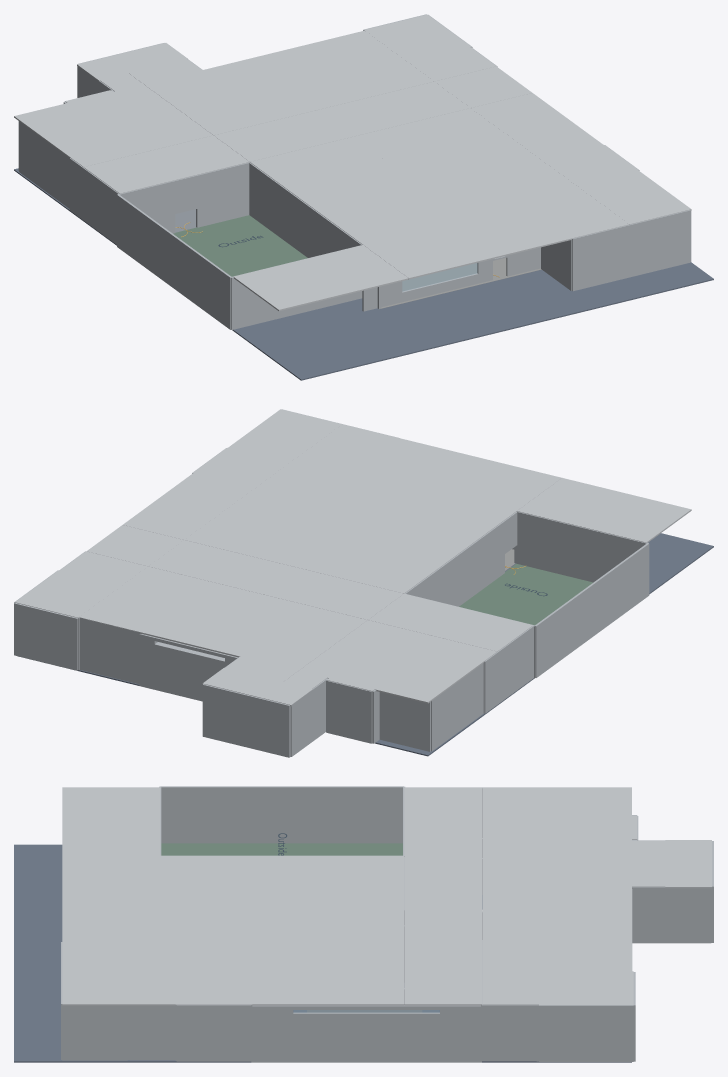
File: school_web.glb
3 views of the same model, one above another, from view 1: azimuth 30°, elevation 25°; view 2: azimuth 150°, elevation 25°; view 3: azimuth 270°, elevation 25° (orthographic). The views are drawn at different scales.
Parts seen in each view (by area): view 1: Interior Roof Shell, School Site Floor - circulation, Main Office - South Wall, Outside - West Wall, Outside - East Wall, Outside Floor, Outside - North Wall, Lobby - South Wall, Locker Room - West Wall, Gym - West Wall, Outside - South Wall, Auditorium North Roof Extension (+5 smaller); view 2: Interior Roof Shell, Outside - West Wall, Outside - South Wall, Auditorium - North Wall, Outside Floor, School - North Exterior Wall, Outside - East Wall, Cafeteria - North Wall, Bathroom - North Wall, School Site Floor - circulation, Locker Room - West Wall, Gym - West Wall (+4 smaller); view 3: Interior Roof Shell, Outside - West Wall, School - East Exterior Wall, School Site Floor - circulation, Cafeteria - East Wall, Auditorium - East Wall, Classroom E - East Wall, Main Office - East Wall, Classroom B - East Wall, Outside Floor, Nurse Office - East Wall, Auditorium North Roof Extension.
Part boxes in pixels (bbox=[...]): Interior Roof Shell: bbox=[14, 14, 691, 311]; School Site Floor - circulation: bbox=[14, 168, 713, 380]; Main Office - South Wall: bbox=[572, 210, 690, 291]; Outside - West Wall: bbox=[117, 194, 231, 329]; Outside - East Wall: bbox=[249, 162, 349, 257]; Outside Floor: bbox=[173, 215, 307, 276]; Outside - North Wall: bbox=[117, 162, 249, 233]; Lobby - South Wall: bbox=[362, 247, 540, 311]; Locker Room - West Wall: bbox=[19, 121, 69, 208]; Gym - West Wall: bbox=[69, 158, 119, 244]; Outside - South Wall: bbox=[231, 245, 362, 329]; Auditorium North Roof Extension: bbox=[77, 43, 187, 81]; Interior Roof Shell: bbox=[15, 409, 691, 703]; Outside - West Wall: bbox=[535, 543, 649, 677]; Outside - South Wall: bbox=[516, 511, 648, 582]; Auditorium - North Wall: bbox=[202, 684, 290, 757]; Outside Floor: bbox=[459, 563, 592, 625]; School - North Exterior Wall: bbox=[139, 634, 237, 701]; Outside - East Wall: bbox=[405, 521, 504, 606]; Cafeteria - North Wall: bbox=[14, 602, 78, 670]; Bathroom - North Wall: bbox=[80, 618, 140, 683]; School Site Floor - circulation: bbox=[18, 533, 713, 756]; Locker Room - West Wall: bbox=[431, 663, 483, 751]; Gym - West Wall: bbox=[484, 625, 533, 713]; Interior Roof Shell: bbox=[62, 787, 665, 1005]; Outside - West Wall: bbox=[160, 786, 403, 843]; School - East Exterior Wall: bbox=[251, 1005, 481, 1062]; School Site Floor - circulation: bbox=[14, 844, 631, 1062]; Cafeteria - East Wall: bbox=[539, 1005, 633, 1061]; Auditorium - East Wall: bbox=[632, 886, 711, 943]; Classroom E - East Wall: bbox=[176, 1005, 251, 1061]; Main Office - East Wall: bbox=[62, 1005, 127, 1060]; Classroom B - East Wall: bbox=[482, 1004, 536, 1061]; Outside Floor: bbox=[161, 843, 402, 855]; Nurse Office - East Wall: bbox=[130, 1005, 175, 1060]; Auditorium North Roof Extension: bbox=[665, 840, 711, 888].
Size of the model in its own units: 46.09 by 5.73 by 62.09.
